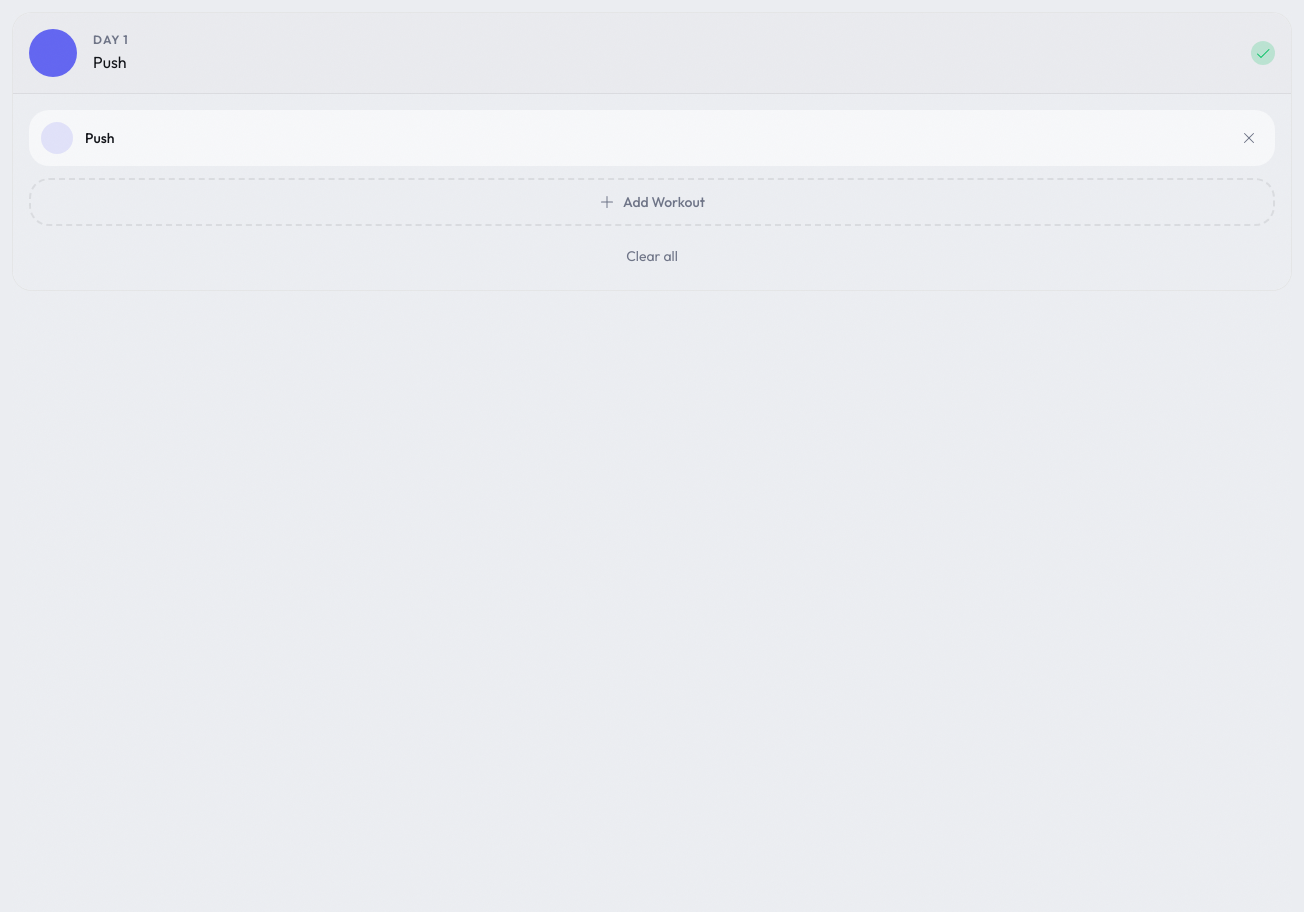
OnboardingDayRow › expanded state - with existing workouts › hides picker when Cancel is clicked
Click the button "Add Workout": click(652, 202) [29, 178, 1275, 226]
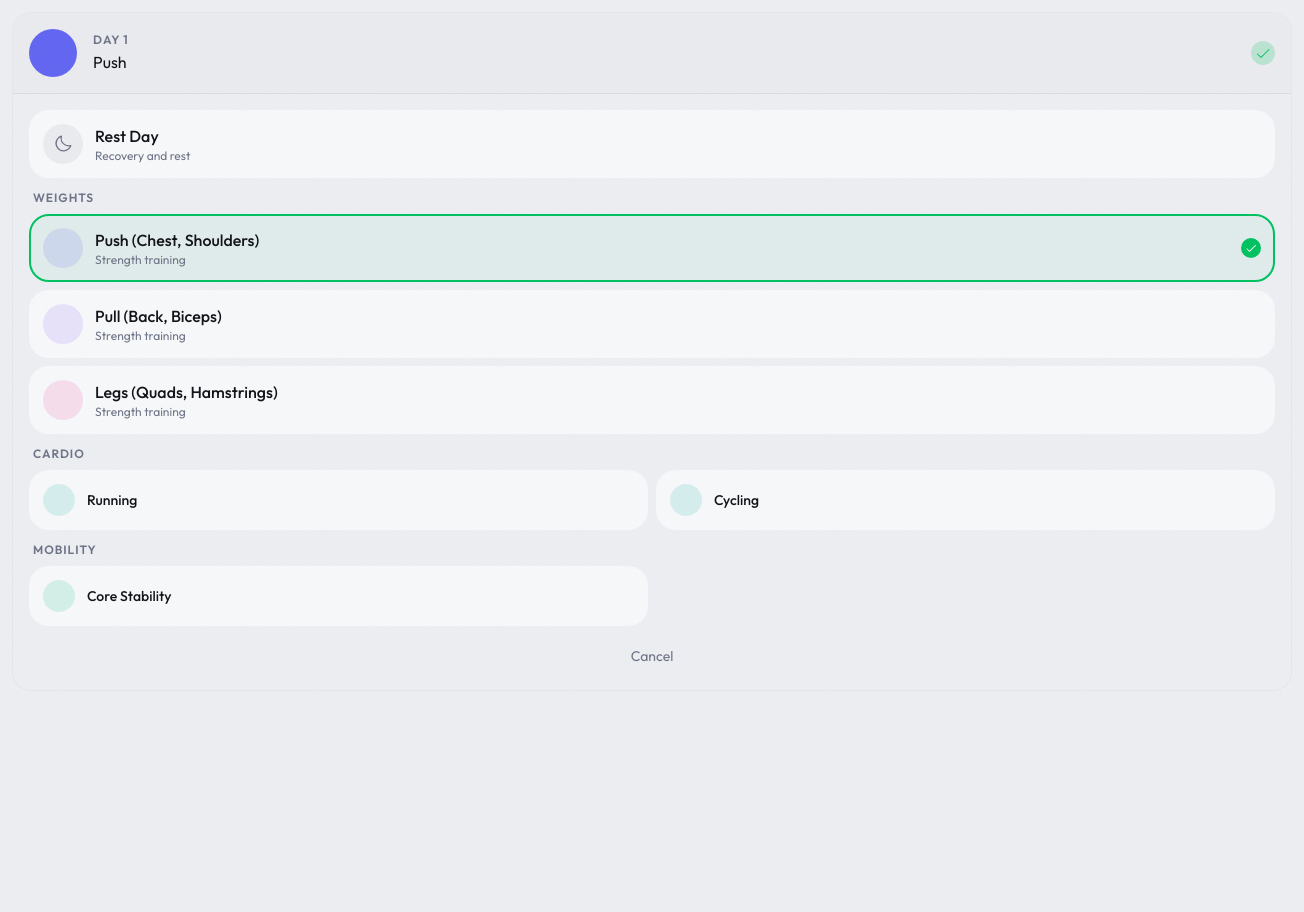
Click the button "Cancel": click(652, 656) [29, 638, 1275, 674]
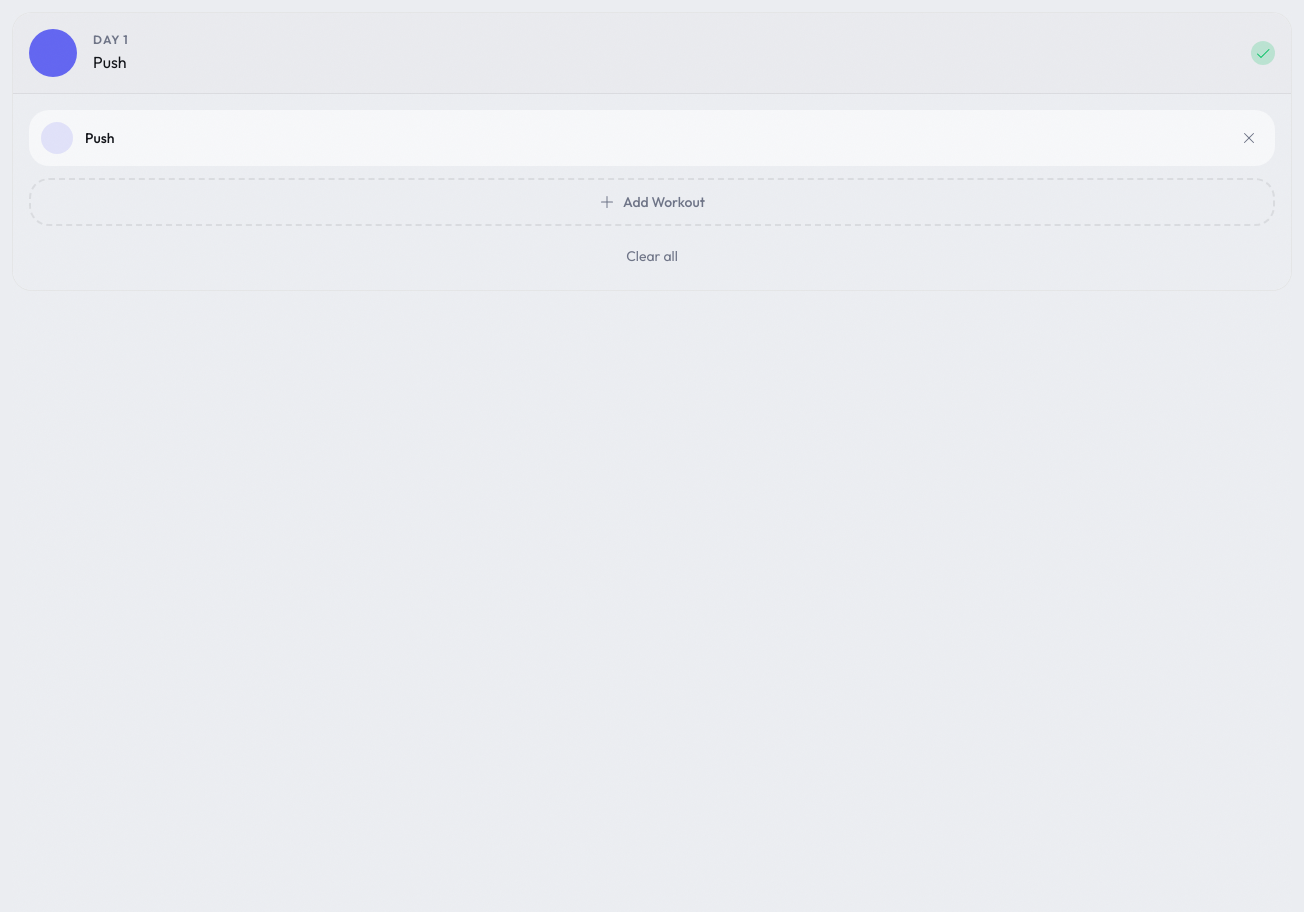
Now the text "Add Workout" is shown, box [623, 192, 705, 212]
